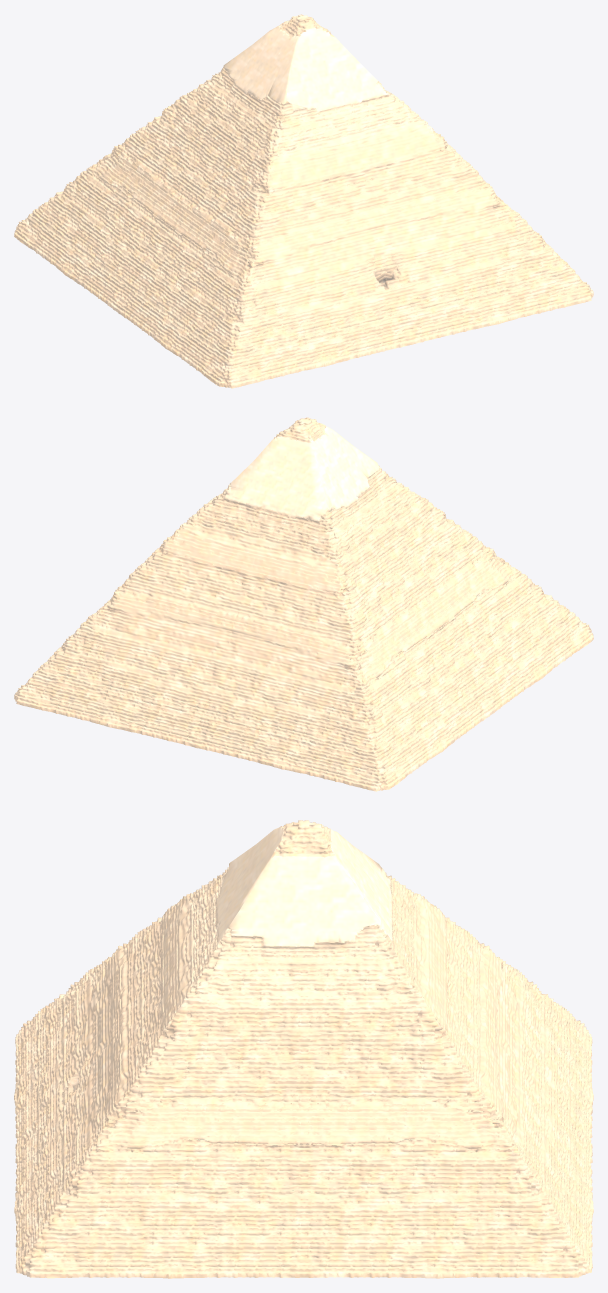
Rendered from 20250702_pyramyds_for_mb_pyramid2d.glb.
3 views of the same model, one above another, from view 1: azimuth 30°, elevation 25°; view 2: azimuth 150°, elevation 25°; view 3: azimuth 270°, elevation 25° (orthographic). The views are drawn at different scales.
Parts seen in each view (by area): view 1: khafre; view 2: khafre; view 3: khafre.
Boxes of the visible parts, box(x1,y1,x2,y2) form: khafre: box(14, 14, 593, 388); khafre: box(14, 417, 593, 791); khafre: box(14, 820, 593, 1278).
Bounding box in the file's own units: 217 × 136 × 216.
Materials: 1 (1 with a texture image).
